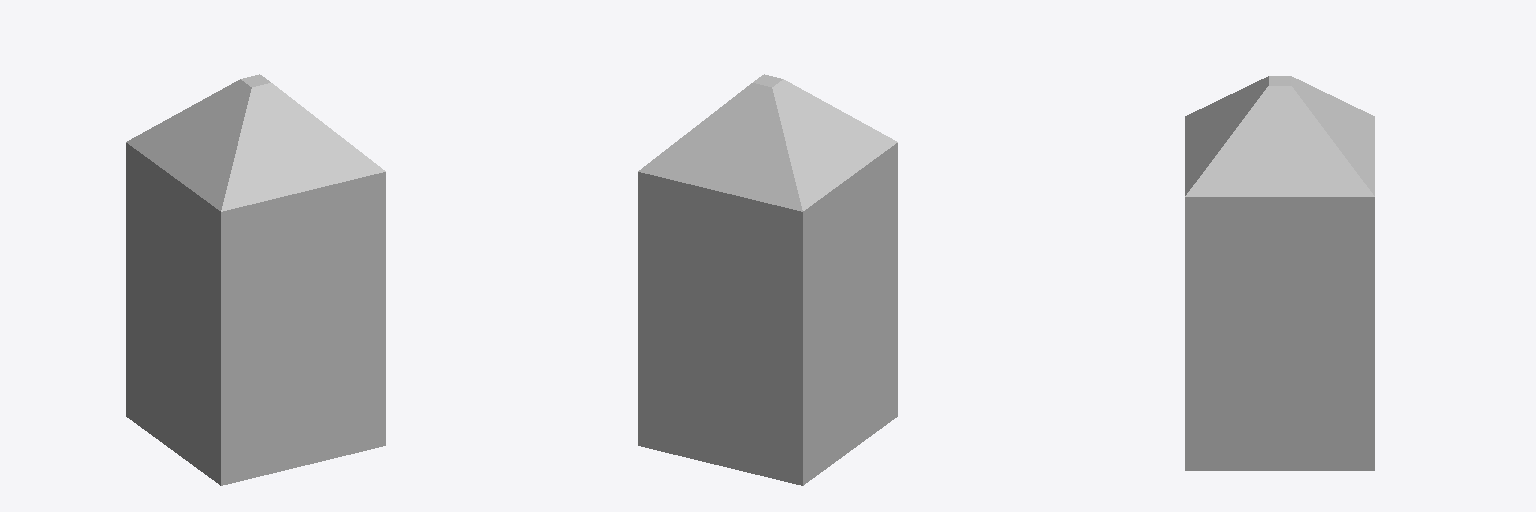
File: Hotel.obj
The picture shows the model from 3 angles: view 1: azimuth 30°, elevation 25°; view 2: azimuth 150°, elevation 25°; view 3: azimuth 270°, elevation 25°; orthographic projection.
Parts seen in each view (by area): view 1: Cube; view 2: Cube; view 3: Cube.
Boxes of the visible parts, box(x1,y1,x2,y2) form: Cube: box(126, 74, 385, 485); Cube: box(638, 74, 897, 485); Cube: box(1185, 76, 1374, 470).
Size of the model in its own units: 2 by 4.05 by 2.